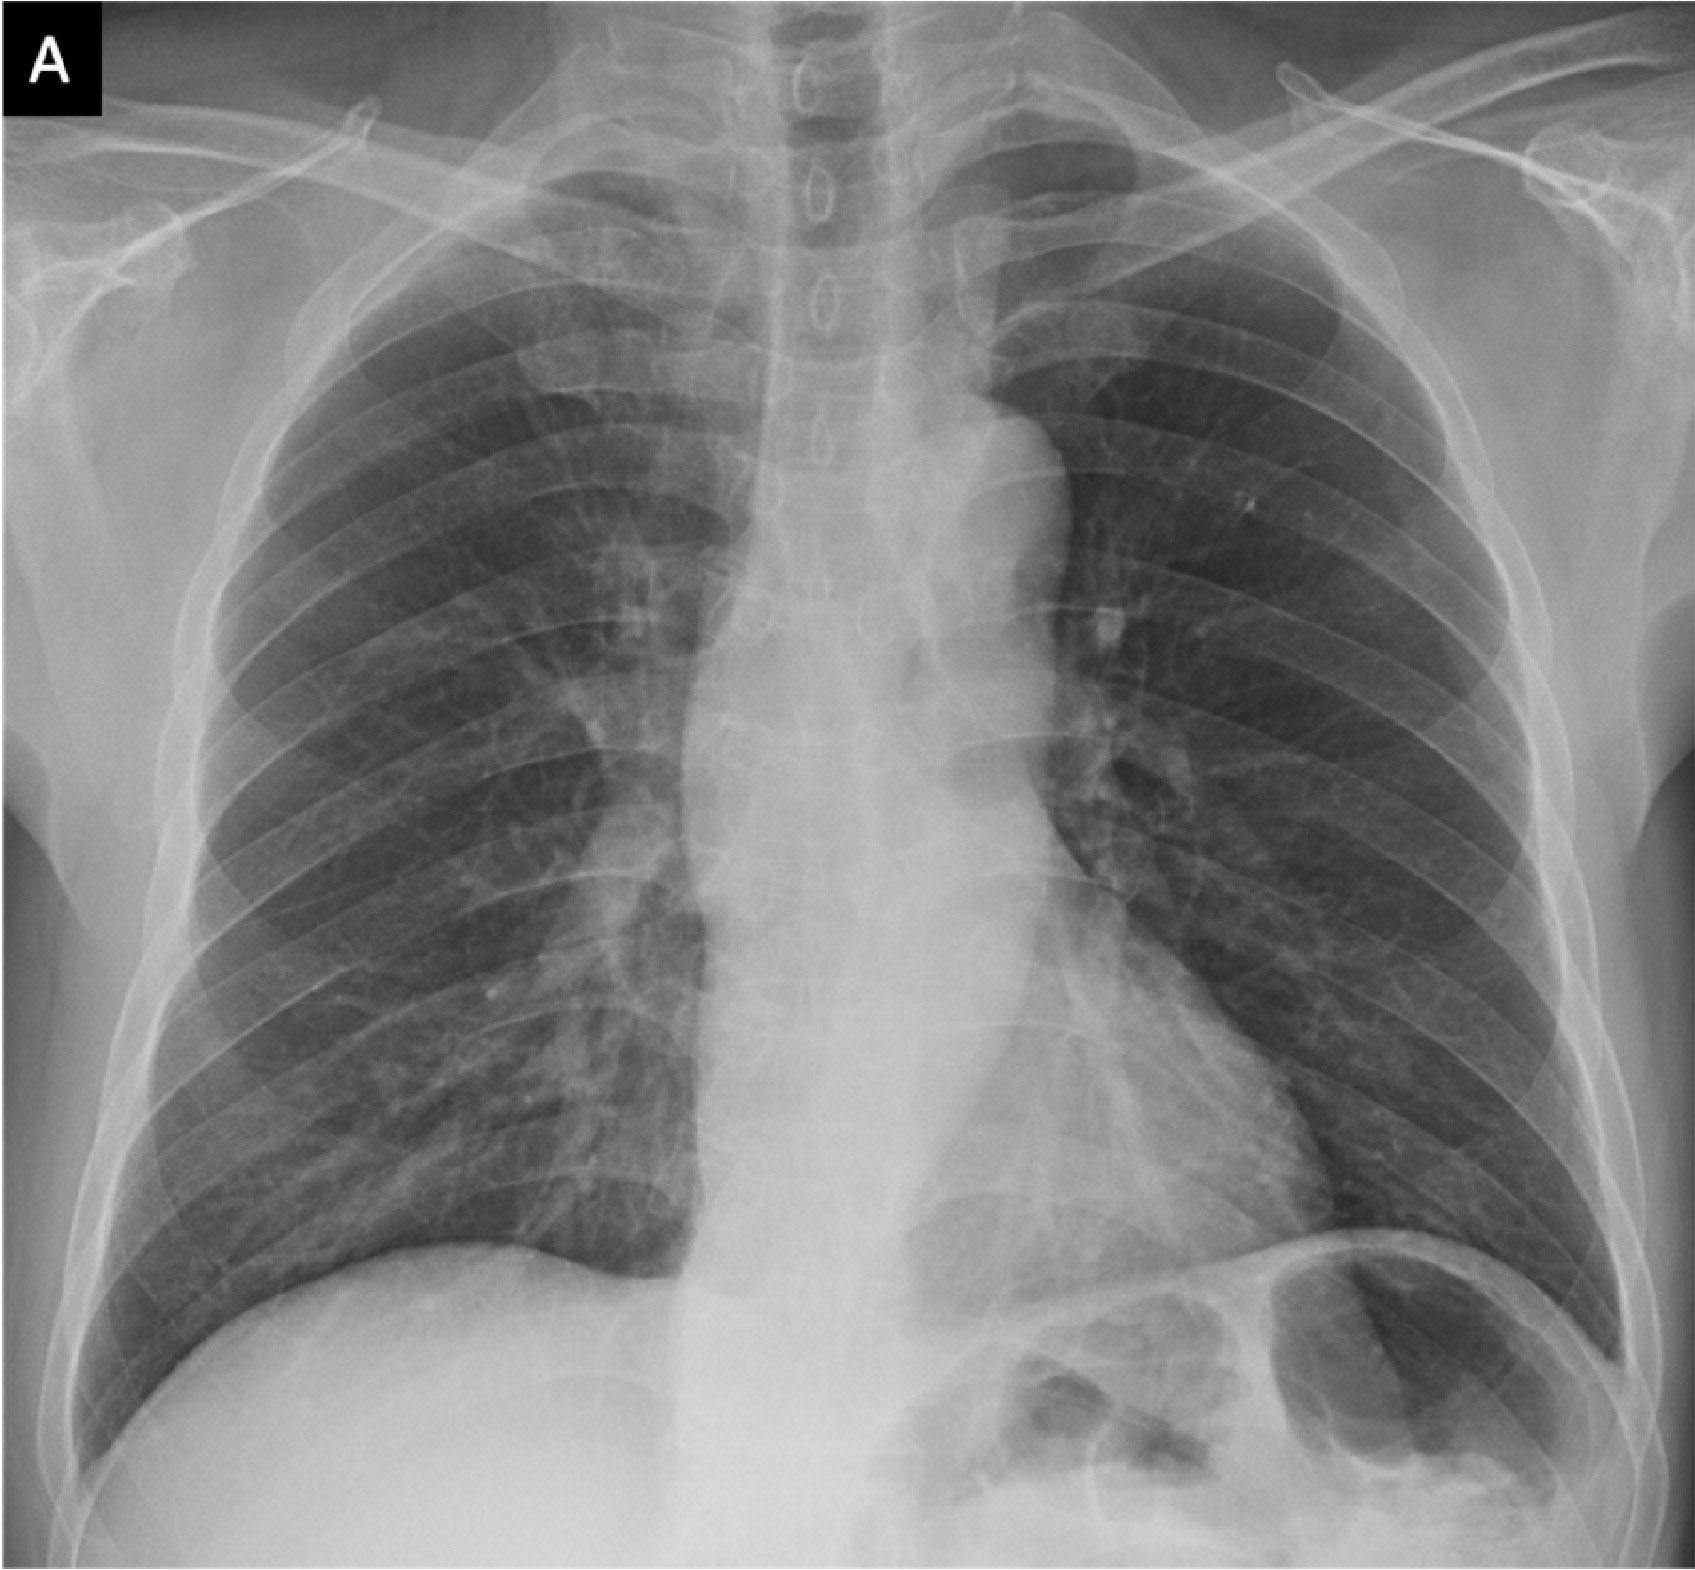Mildw: (71, 168, 760, 1461), (946, 130, 1629, 1353)
